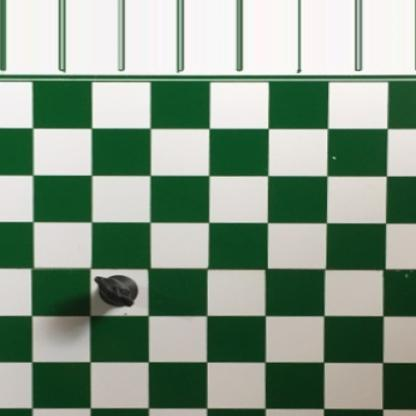black-knight: (91, 274, 142, 308)
